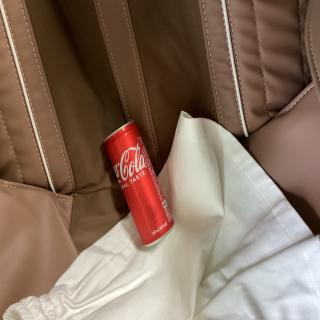cocacola: (98, 114, 182, 258)
